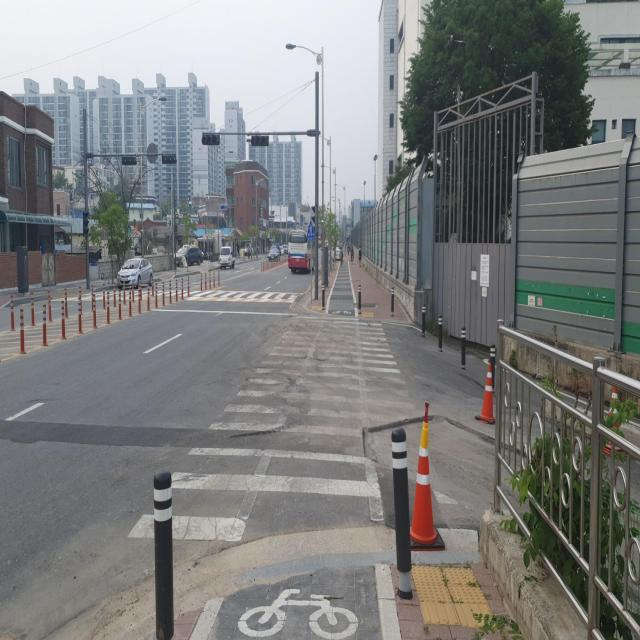횡단보도: (126, 316, 459, 546), (66, 288, 308, 305)
